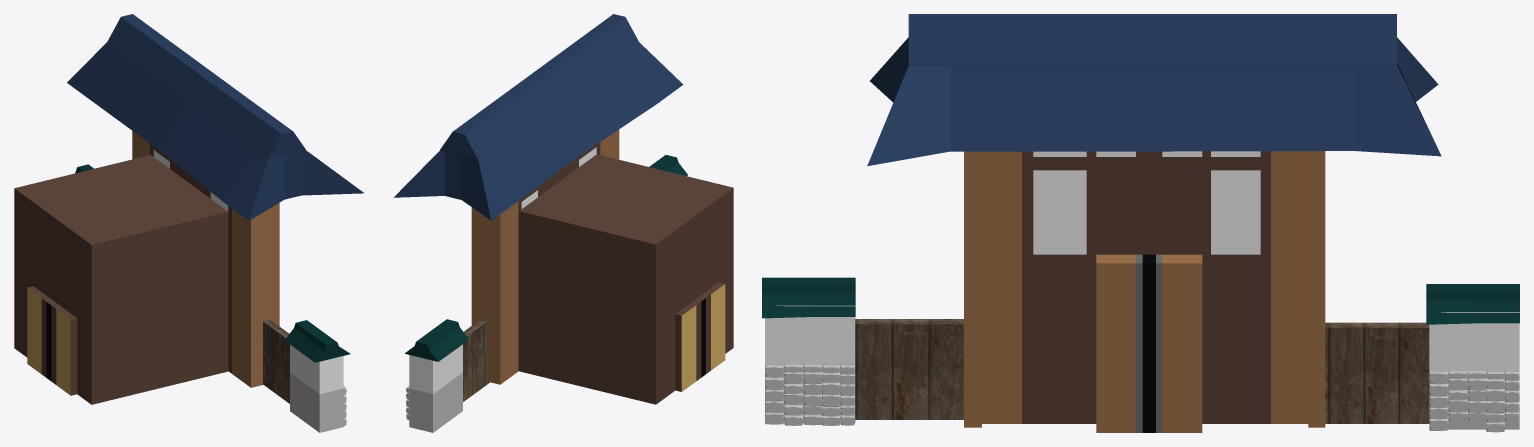
Rendered from Japanse_kasteelingang.fbx.
3 views of the same model, side by side, from view 1: azimuth 30°, elevation 25°; view 2: azimuth 150°, elevation 25°; view 3: azimuth 270°, elevation 25° (orthographic). The views are drawn at different scales.
Visible parts, largest first — view 1: Cube.033, Cube.034, Cube.001, Cube.032, Cube.031; view 2: Cube.033, Cube.034, Cube.036, Cube.035, Cube.066, Cube.031; view 3: Cube.033, Cube.034, Cube.032, Cube.035, Cube.036, Cube.001, Cube.031, Cube.066.
Part boxes in pixels (left/top/right/bottom): Cube.033: left=14, top=131, right=279, bottom=404; Cube.034: left=67, top=14, right=363, bottom=220; Cube.001: left=290, top=344, right=343, bottom=432; Cube.032: left=263, top=320, right=289, bottom=403; Cube.031: left=285, top=320, right=350, bottom=362; Cube.033: left=471, top=129, right=733, bottom=404; Cube.034: left=394, top=14, right=683, bottom=220; Cube.036: left=409, top=344, right=462, bottom=432; Cube.035: left=463, top=319, right=489, bottom=401; Cube.066: left=405, top=319, right=469, bottom=361; Cube.031: left=649, top=155, right=687, bottom=176; Cube.033: left=964, top=151, right=1325, bottom=432; Cube.034: left=867, top=14, right=1441, bottom=165; Cube.032: left=855, top=319, right=963, bottom=419; Cube.035: left=1325, top=322, right=1429, bottom=423; Cube.036: left=1429, top=312, right=1519, bottom=429; Cube.001: left=765, top=305, right=855, bottom=423; Cube.031: left=762, top=277, right=855, bottom=318; Cube.066: left=1426, top=284, right=1519, bottom=324.
Bounding box in the file's own units: 1890 × 2138 × 3626.
